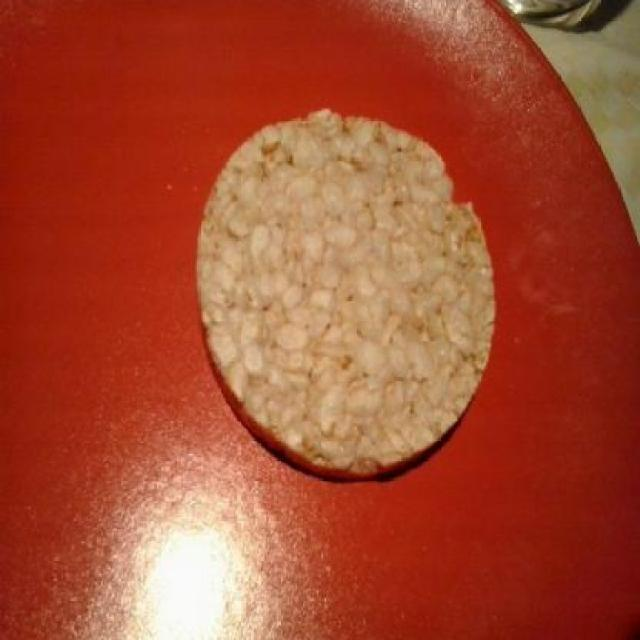Gallette di riso packaged: (193, 111, 501, 478)
